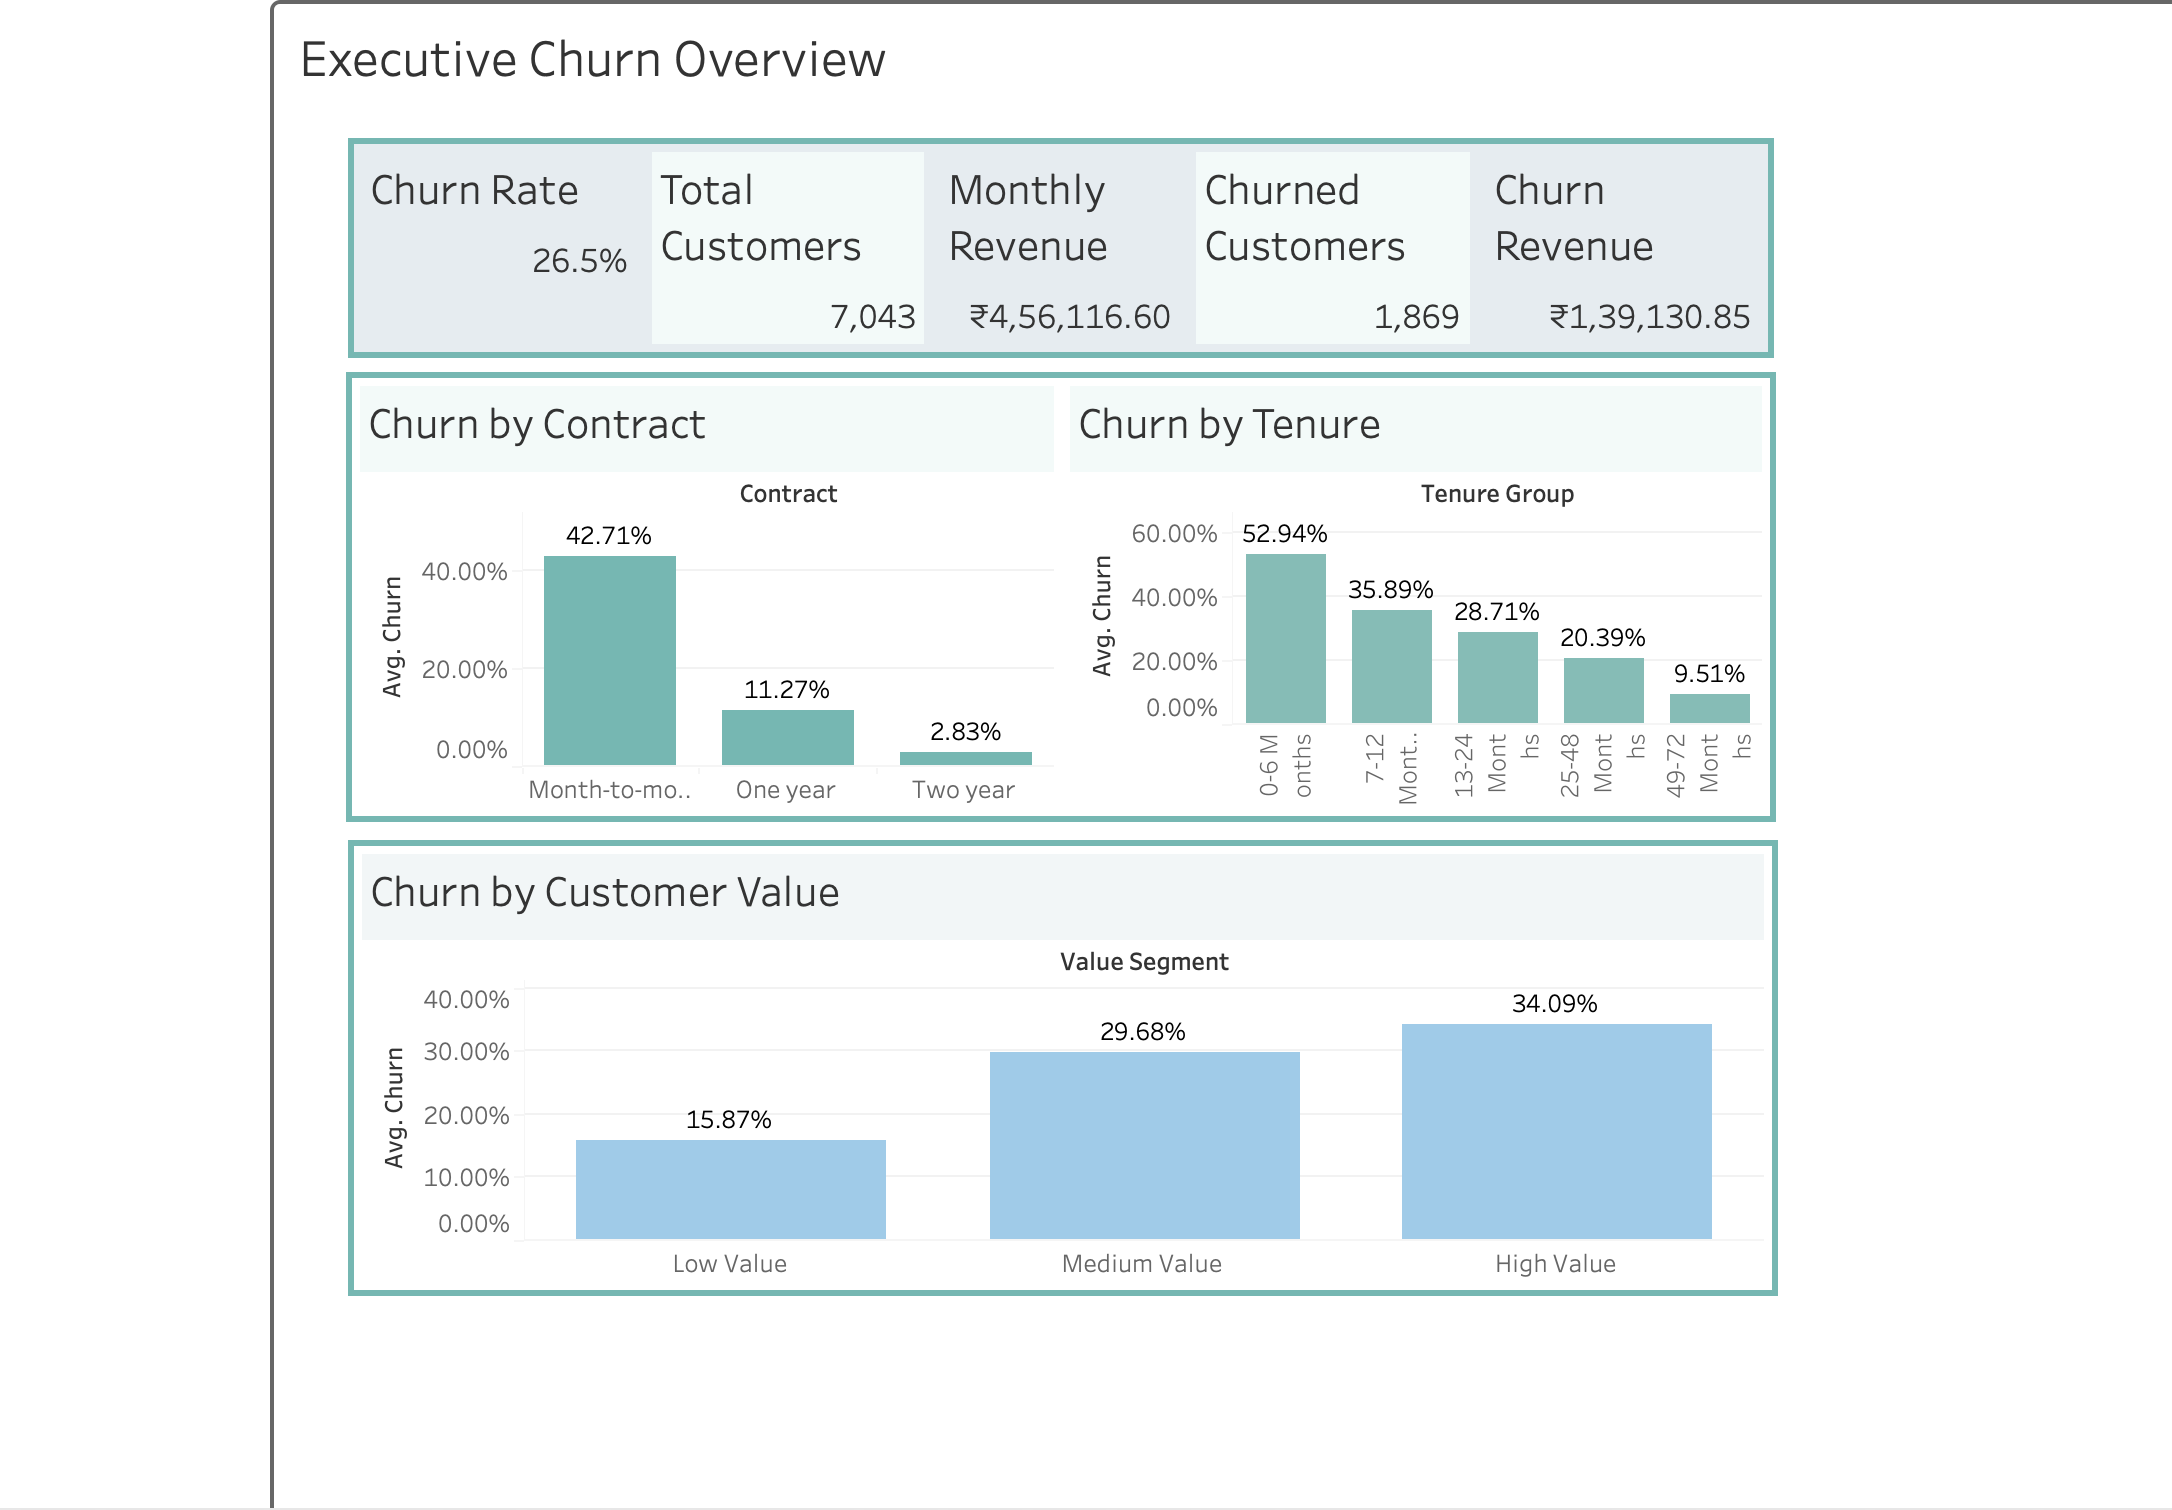

Layout of this report page (visuals, bound fields, positions):
{"tool":"tableau","page":{"name":"Executive Churn Overview","canvas":[968,908],"ordinal":1},"visuals":[{"type":"title","box":[8,8,952,42]},{"type":"worksheet","title":"Churn Rate","mark":"Automatic","box":[42,72.4,144.7,103.9]},{"type":"worksheet","title":"Total Customers","mark":"Automatic","box":[186.7,72.4,144.7,103.9]},{"type":"worksheet","title":"Monthly Revenue","mark":"Automatic","box":[331.5,72.4,128,103.9]},{"type":"worksheet","title":"Churned Customers","mark":"Automatic","box":[459.5,72.4,144.7,103.9]},{"type":"worksheet","title":"Churn Revenue","mark":"Automatic","box":[604.2,72.4,144.7,103.9]},{"type":"worksheet","title":"Churn by Contract","mark":"Automatic","rows":["Churn"],"cols":["Contract"],"box":[41,189,355,219]},{"type":"worksheet","title":"Churn by Tenure","mark":"Automatic","rows":["Churn"],"cols":["TenureGroup"],"box":[396,189,354,219]},{"type":"worksheet","title":"Churn by Customer Value","mark":"Automatic","rows":["Churn"],"cols":["Calculation_3477937109925895"],"box":[42,423,709,222]}]}

Visuals, with their boxes on the page's 968x908 design canvas (x1, y1, x2, y2). These are canvas units, not pixel positions in the 2172x1510 screenshot, which may show the page scaled, cropped or inside an application window:
title: detection(8, 8, 960, 50)
"Churn Rate" worksheet: detection(42, 72, 187, 176)
"Total Customers" worksheet: detection(187, 72, 331, 176)
"Monthly Revenue" worksheet: detection(332, 72, 460, 176)
"Churned Customers" worksheet: detection(460, 72, 604, 176)
"Churn Revenue" worksheet: detection(604, 72, 749, 176)
"Churn by Contract" worksheet: detection(41, 189, 396, 408)
"Churn by Tenure" worksheet: detection(396, 189, 750, 408)
"Churn by Customer Value" worksheet: detection(42, 423, 751, 645)
